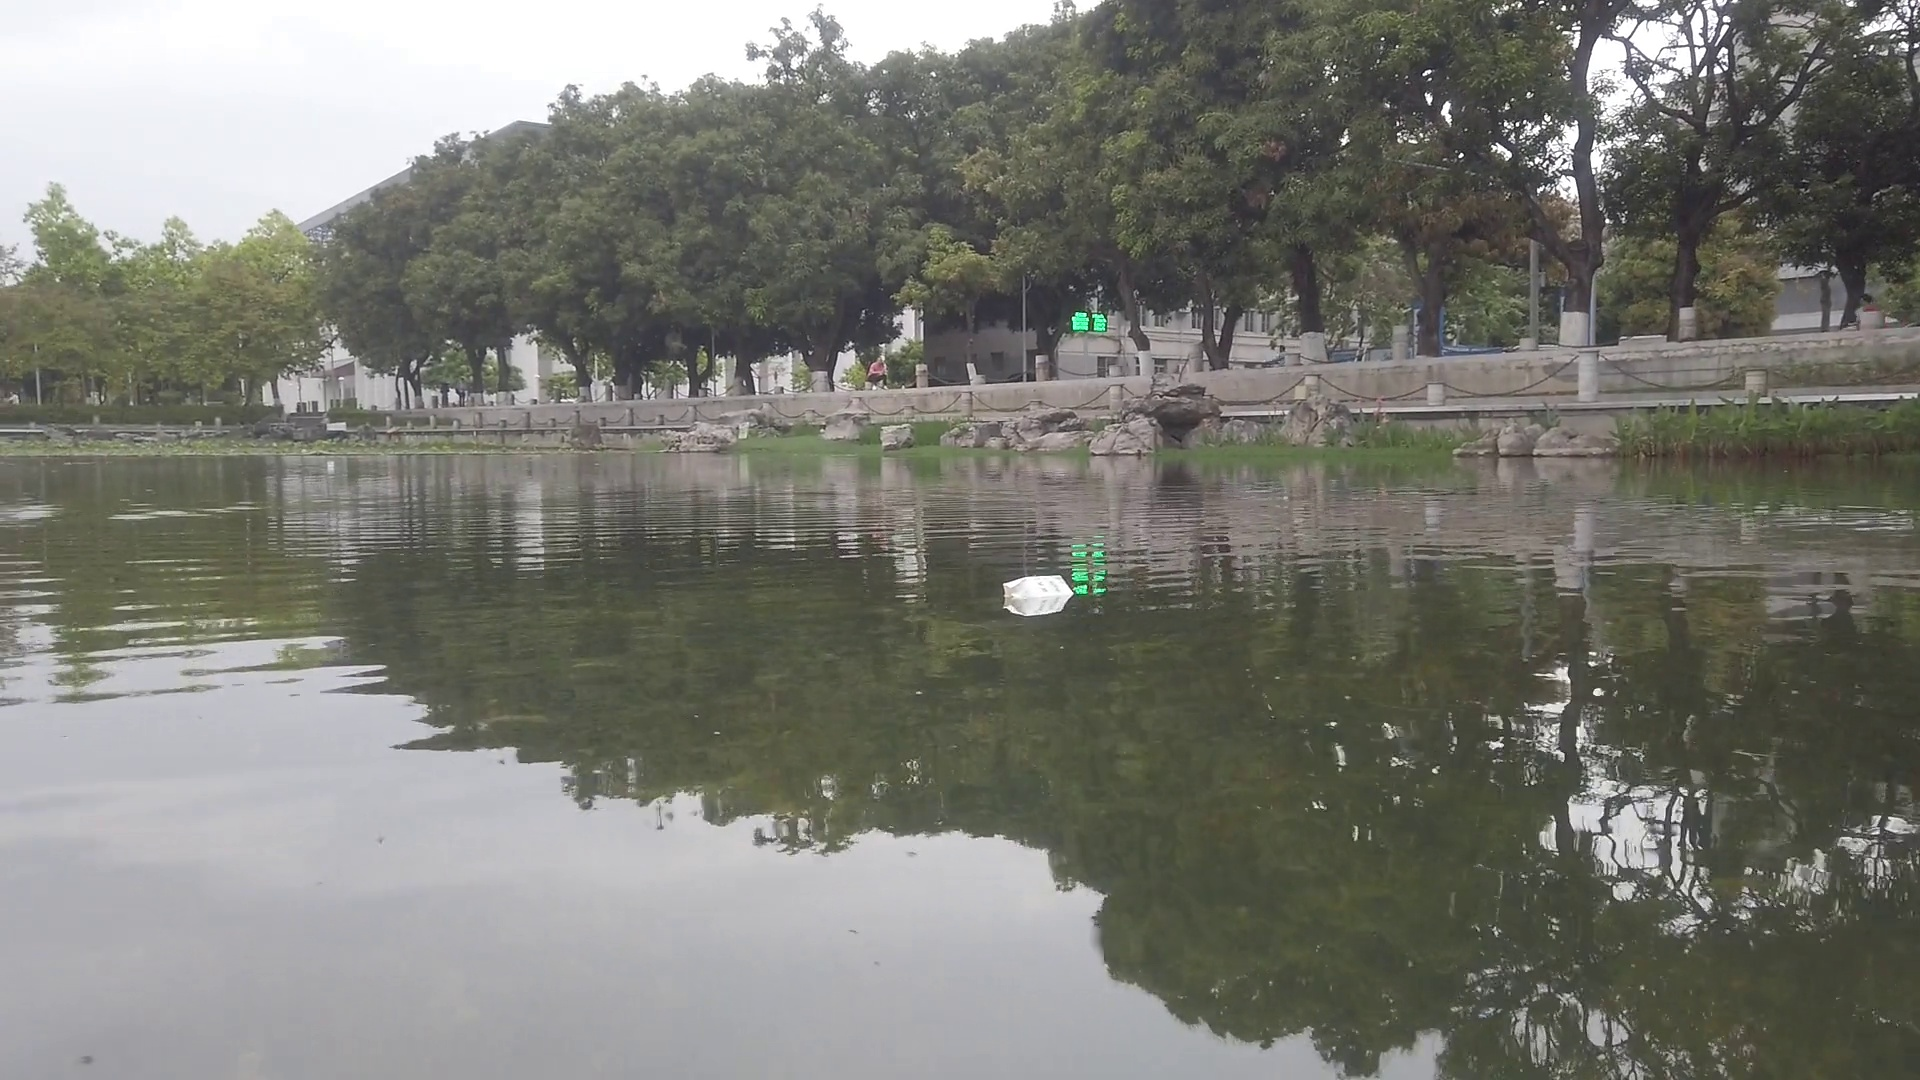carton: (1002, 574, 1073, 605), (326, 459, 340, 468)
